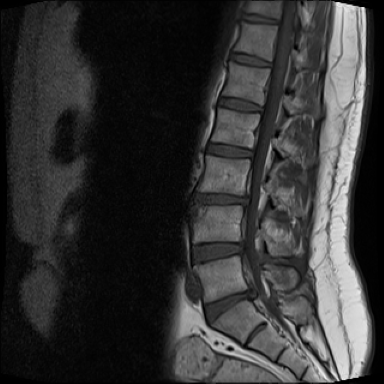Lumbar Disc Bulge (LDB): (195, 278, 260, 331), (187, 187, 256, 212)
Normal IVD: (184, 235, 248, 269), (201, 136, 258, 165), (211, 93, 269, 117), (223, 49, 277, 72), (235, 11, 285, 29)
Spinal Stenosis (SS): (241, 278, 262, 306), (240, 188, 258, 211)
